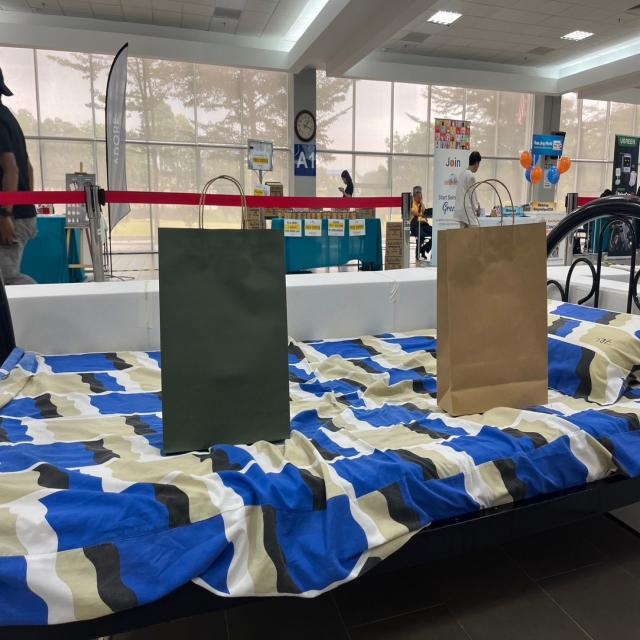bag: (158, 164, 286, 443), (443, 162, 545, 398)
